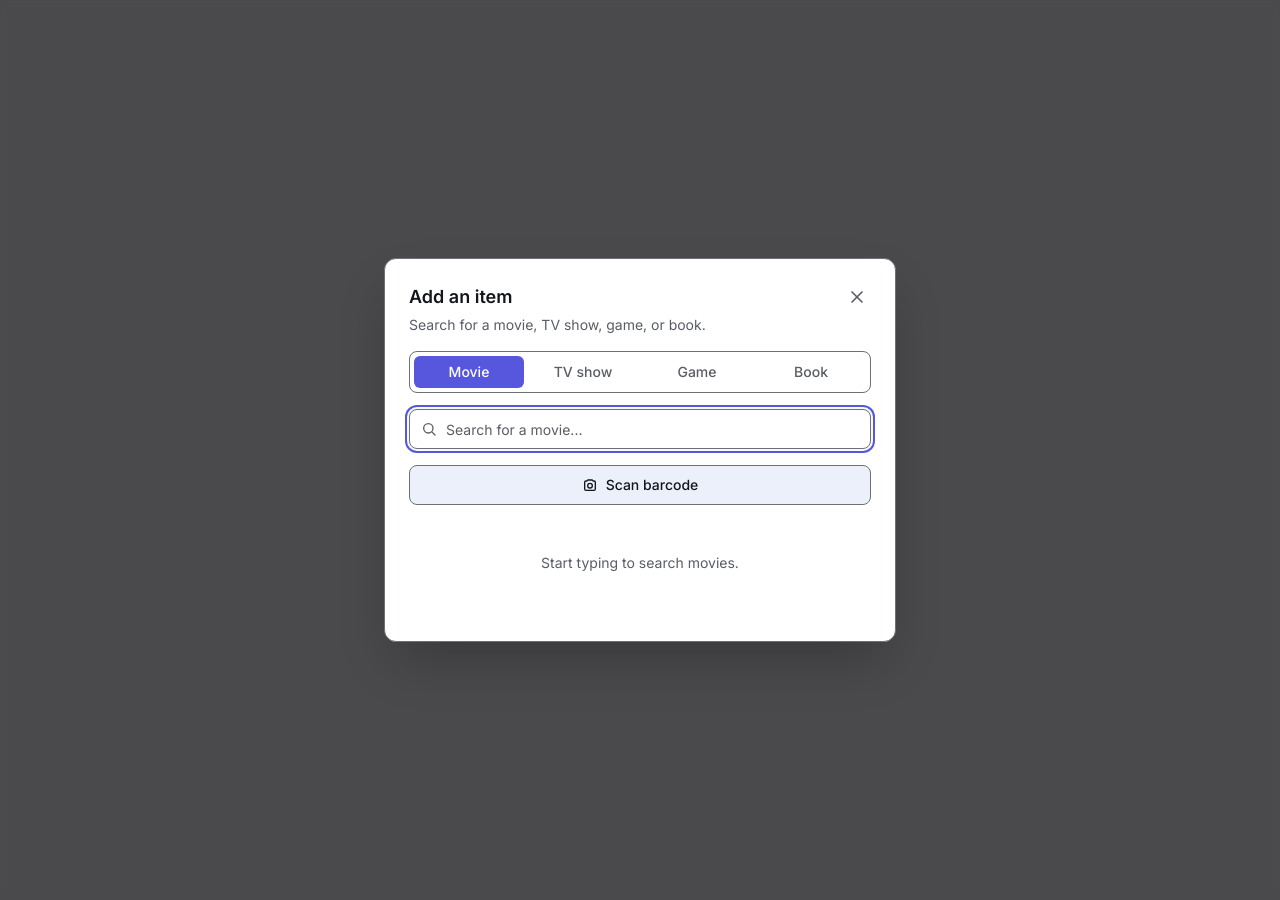
it: AddItemModal search with no results in the chosen type › says so when no type has results
The image size is (1280, 900).
Type "zzzz" into the field labelled "Search" at (640, 429), box [409,409,871,449]
Wait 350 ms
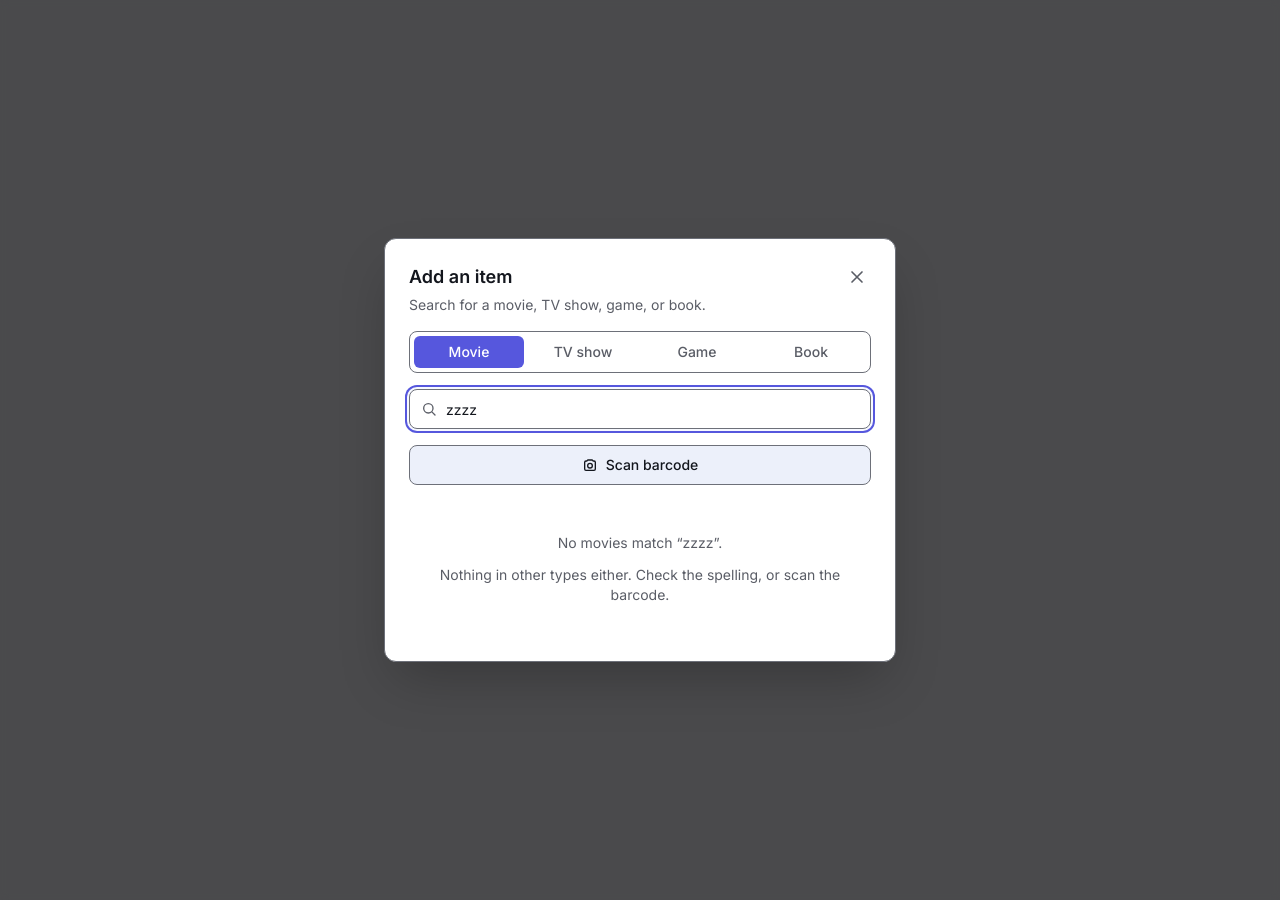
Now the text "Nothing in other types either. Check the spelling, or scan the barcode." is shown, box [409,565,871,605]
